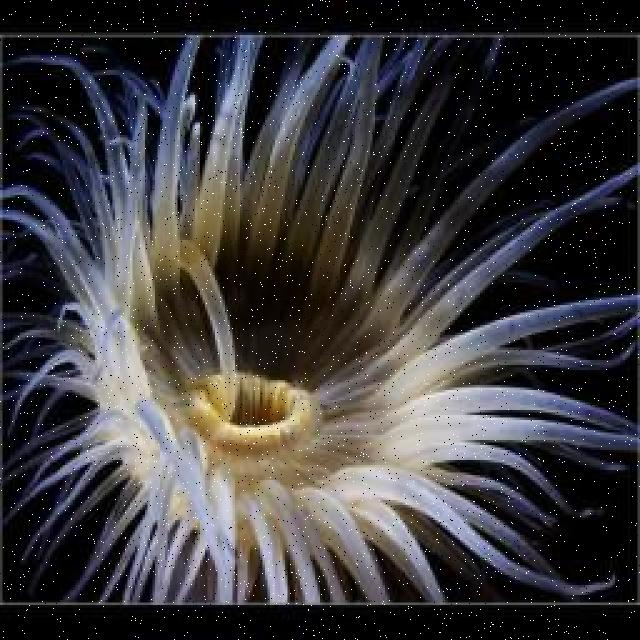reefs: (0, 35, 638, 607)
